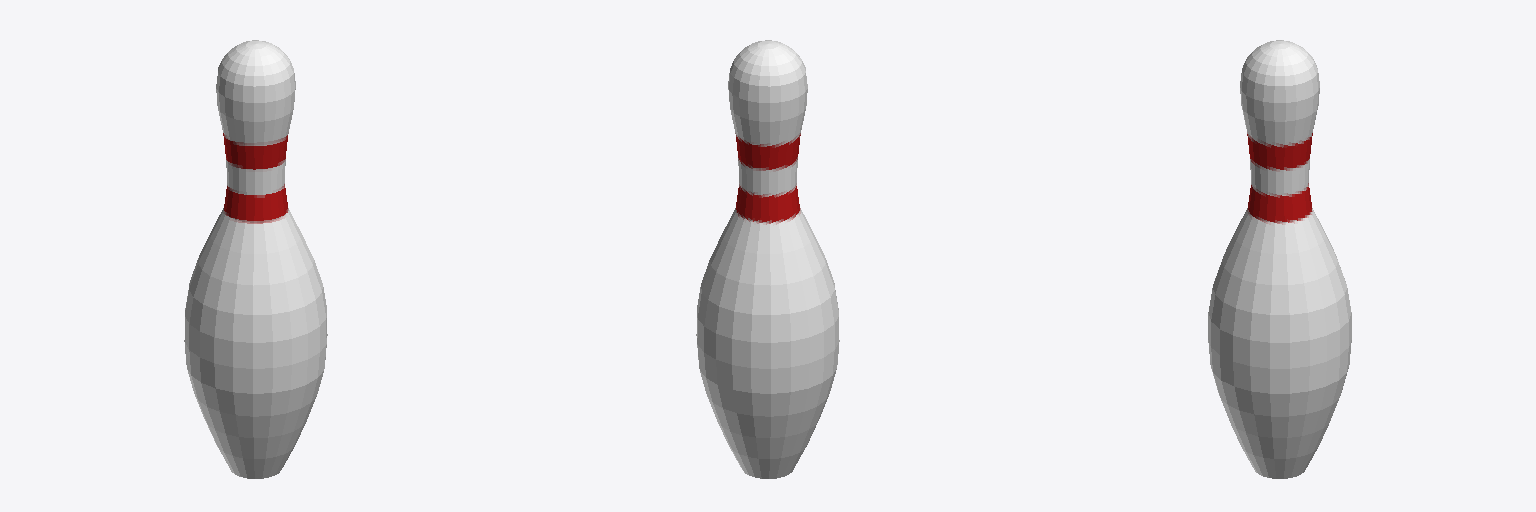
The picture shows the model from 3 angles: view 1: azimuth 30°, elevation 25°; view 2: azimuth 150°, elevation 25°; view 3: azimuth 270°, elevation 25°; orthographic projection.
Parts seen in each view (by area): view 1: Sphere; view 2: Sphere; view 3: Sphere.
Part boxes in pixels (x1,y1,x2,y2): Sphere: (184, 40, 327, 478); Sphere: (696, 40, 839, 478); Sphere: (1208, 40, 1351, 478).
Bounding box in the file's own units: 0.117 × 0.385 × 0.1182.
Materials: 1 (1 with a texture image).